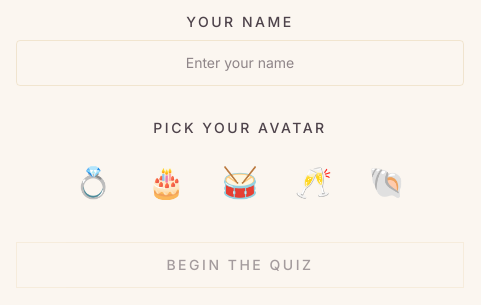
Test: QuizModule › Begin button enables when name and avatar provided
The width and height of the screenshot is (481, 305).
Type "Ola" into the field with placeholder "Enter your name" at (240, 63), box [16, 40, 464, 86]
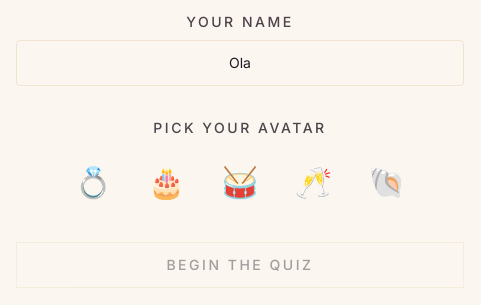
Click the button named "select 💍 avatar" at (93, 182), box [64, 154, 122, 210]
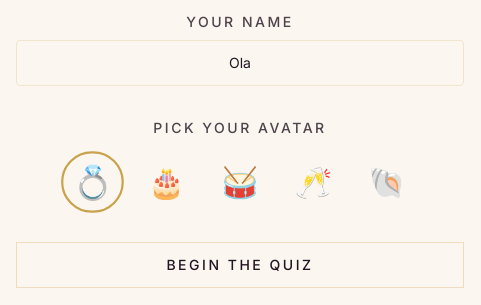
Now the button "Begin the Quiz" is enabled, box [16, 242, 464, 288]
